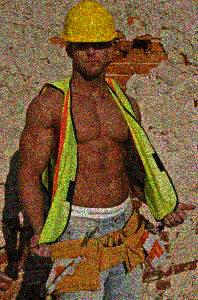helmet: (61, 1, 117, 79)
